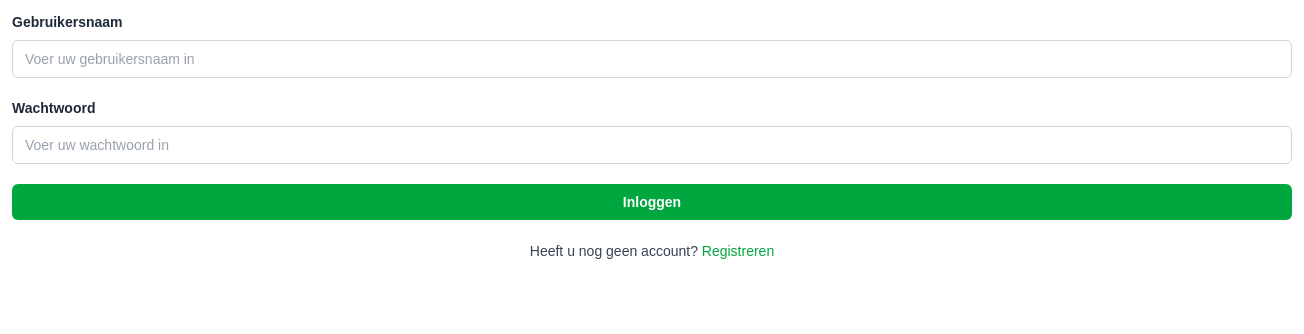
Test case: LoginForm › does not store credentials on server error (500)
Type "user" into the field with test id "username-input" at [652, 59], box x1=12 y1=40 x2=1292 y2=78
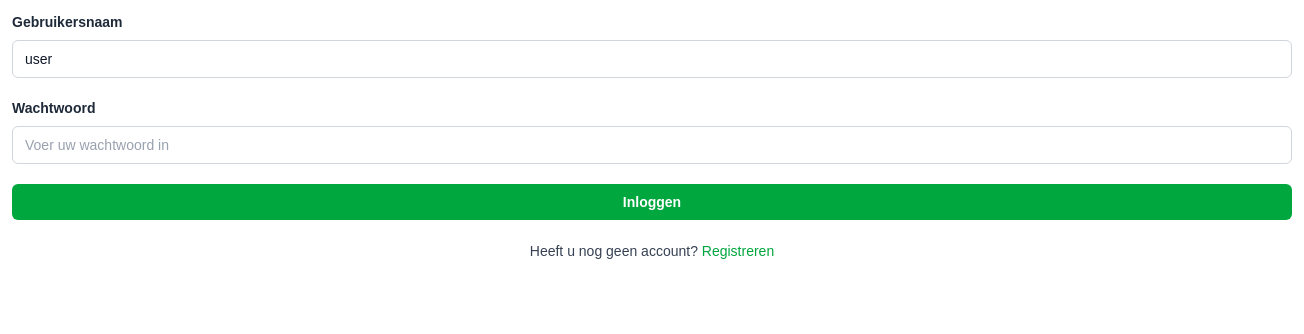
Type "pass" into the password field with test id "password-input" at [652, 145], box x1=12 y1=126 x2=1292 y2=164
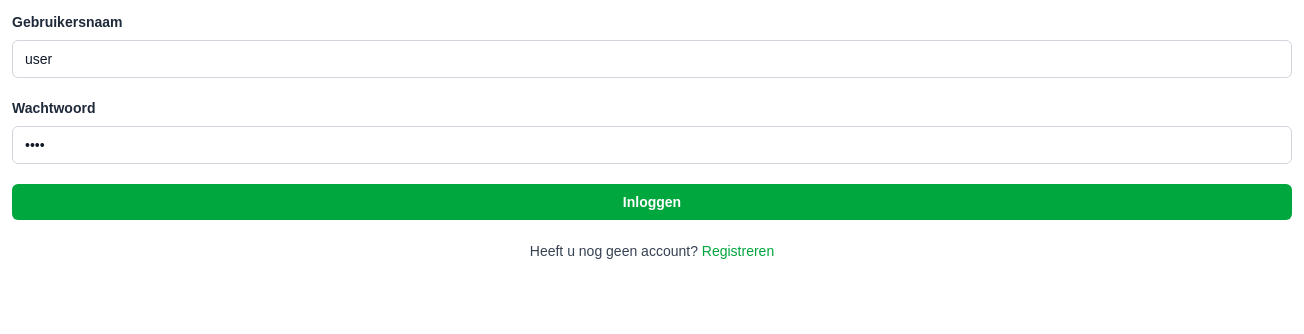
Click the button with test id "login-button" at [652, 202], box x1=12 y1=184 x2=1292 y2=220
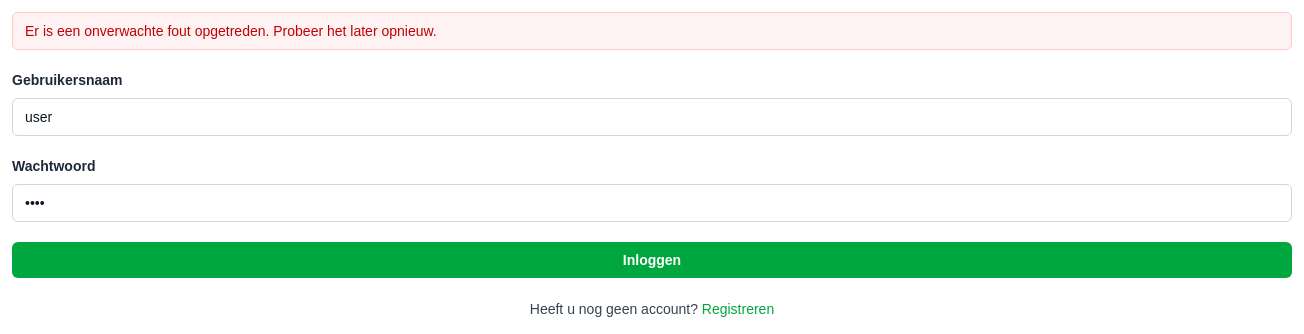
Now the message "Er is een onverwachte fout opgetreden. Probeer het later opnieuw." is shown, box x1=12 y1=12 x2=1292 y2=50
